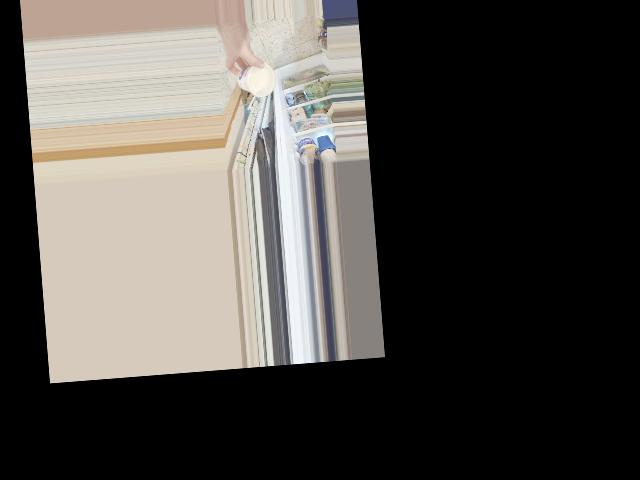cotage: (236, 63, 274, 98)
